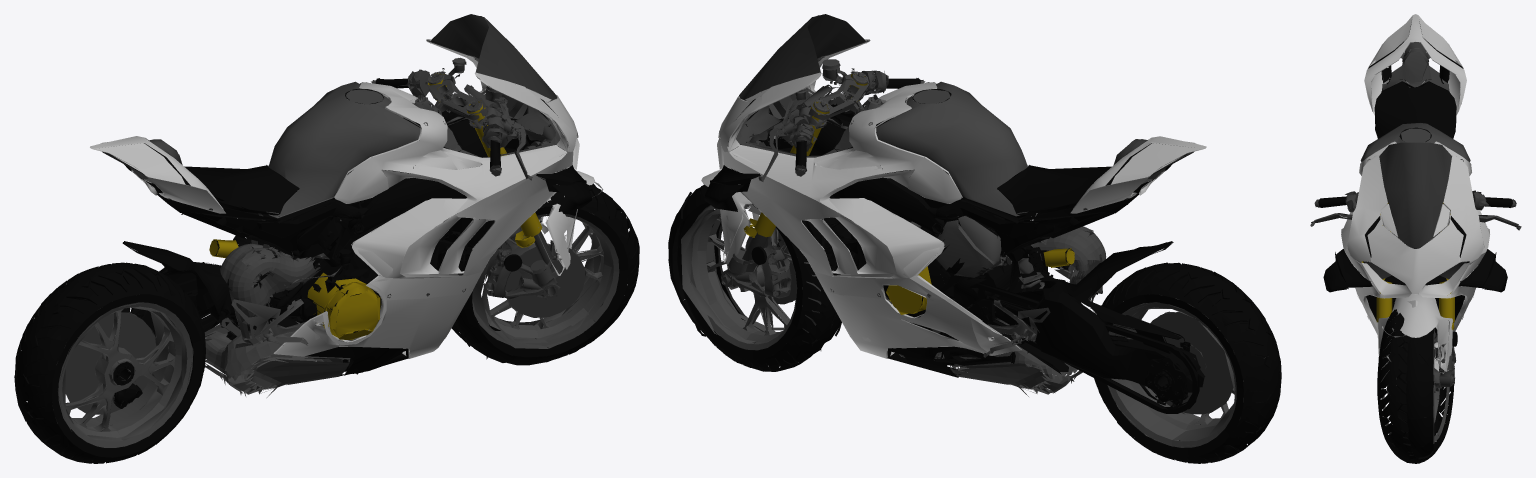
3 views of the same model, side by side, from view 1: azimuth 30°, elevation 25°; view 2: azimuth 150°, elevation 25°; view 3: azimuth 270°, elevation 25° (orthographic). The views are drawn at different scales.
Visible parts, largest first — view 1: body, wheel_RL_mesh, wheel_FL_mesh; view 2: body, wheel_RL_mesh, wheel_FL_mesh; view 3: body, wheel_FL_mesh.
Boxes of the visible parts, x1=… form: body: x1=17, y1=14, x2=637, y2=460; wheel_RL_mesh: x1=14, y1=262, x2=205, y2=463; wheel_FL_mesh: x1=451, y1=184, x2=639, y2=359; body: x1=668, y1=14, x2=1277, y2=459; wheel_RL_mesh: x1=1094, y1=262, x2=1281, y2=463; wheel_FL_mesh: x1=677, y1=169, x2=836, y2=371; body: x1=1310, y1=14, x2=1521, y2=459; wheel_FL_mesh: x1=1380, y1=305, x2=1453, y2=463.
Size of the model in its own units: 2.1 by 1.19 by 0.7824.
